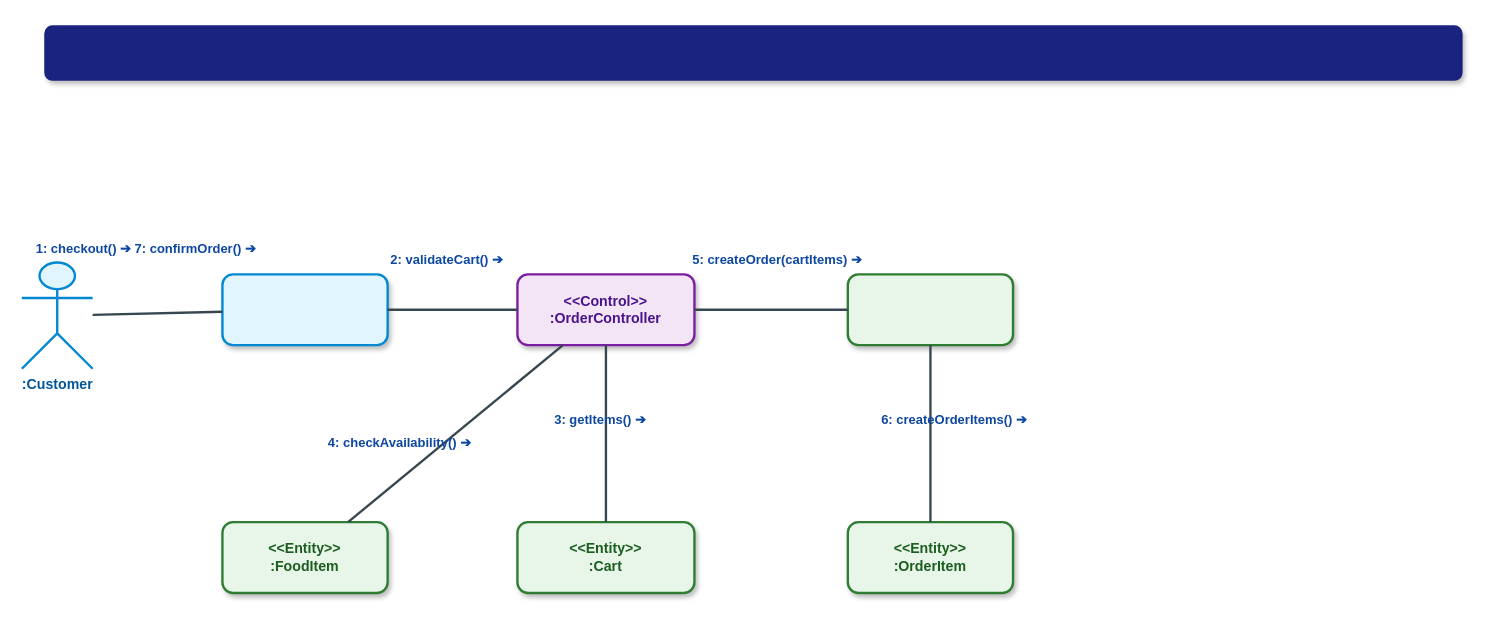
Some shapes in this 1489 by 622 pixel diagram are drawn without their labels. Each missing label, with the centre of its shape:
<<Boundary>> :CheckoutPage: [305,311]
<<Entity>> :Order: [931,311]
ONLINE FOOD ORDERING SYSTEM — PLACE ORDER COMMUNICATION DIAGRAM: [754,54]
